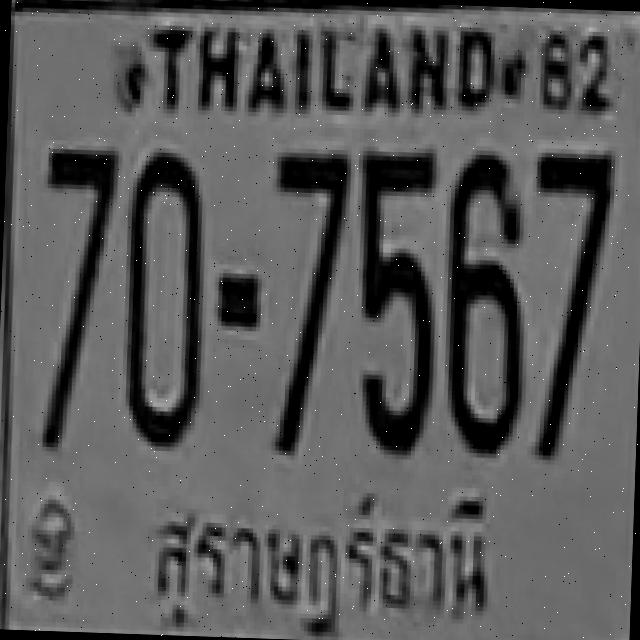0: (352, 242, 433, 450), (124, 147, 204, 350)
7: (528, 146, 612, 324), (270, 150, 349, 318), (39, 144, 114, 308)
SuratThani: (136, 479, 509, 640)
